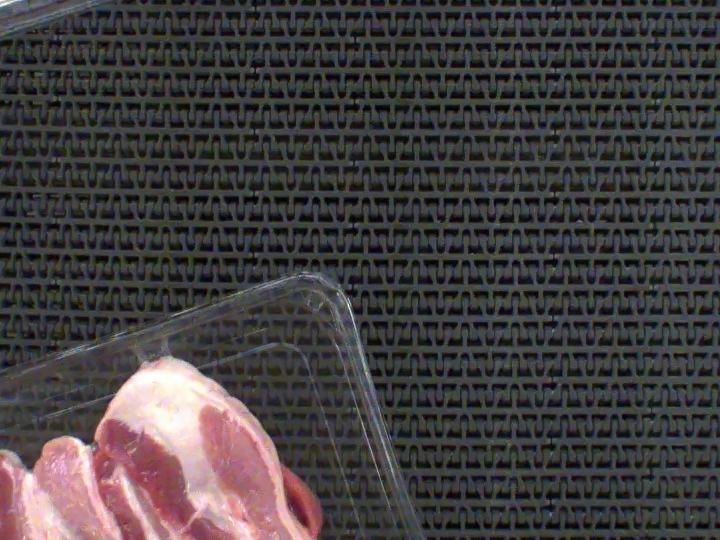packaging-error: (97, 312, 219, 377)
